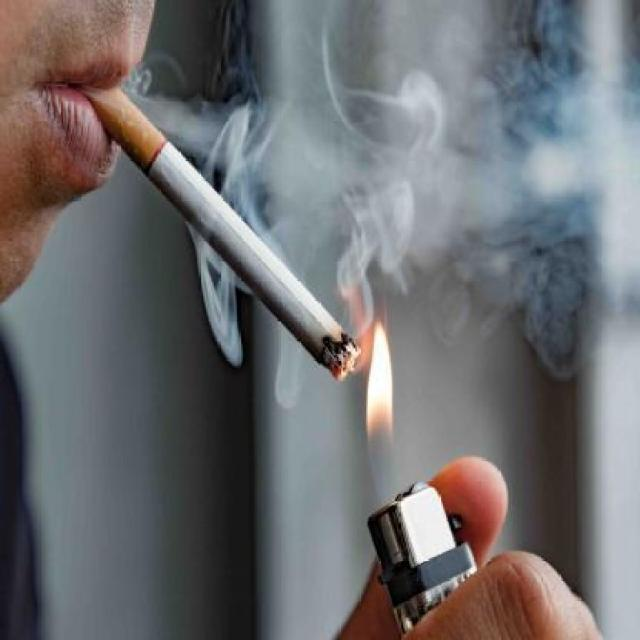cigarette: (89, 77, 362, 378)
